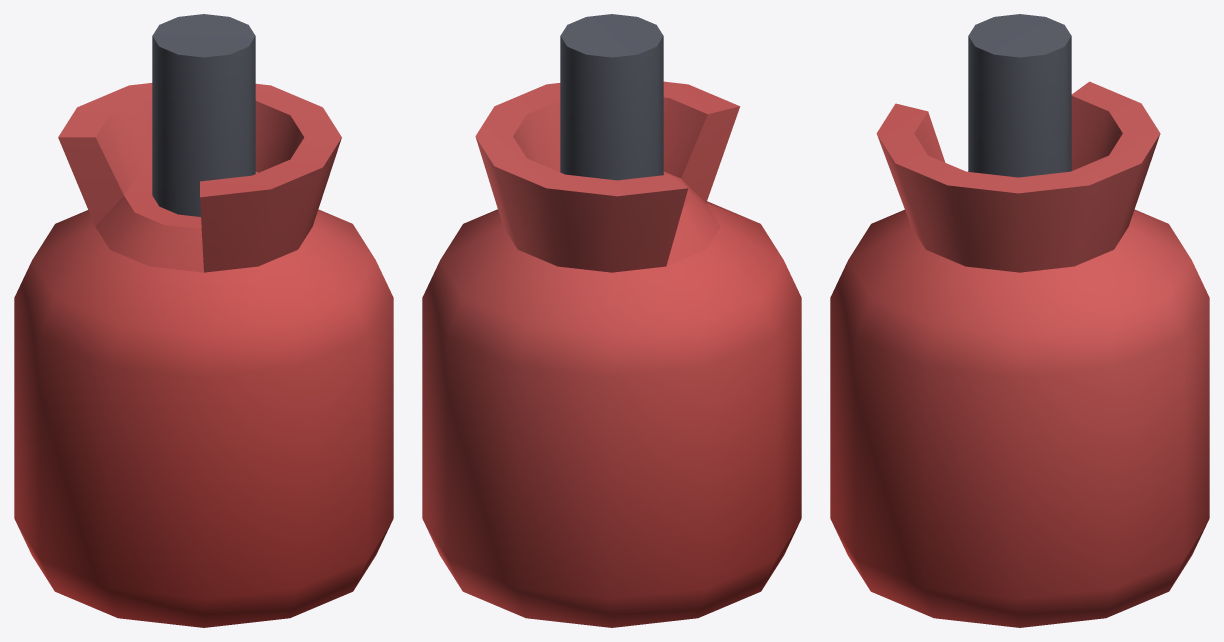
File: Gas.fbx
The picture shows the model from 3 angles, left to right: view 1: azimuth 30°, elevation 25°; view 2: azimuth 150°, elevation 25°; view 3: azimuth 270°, elevation 25°; orthographic projection.
Parts seen in each view (by area): view 1: Gas; view 2: Gas; view 3: Gas.
Part boxes in pixels (x1=…): Gas: x1=14, y1=14, x2=393, y2=627; Gas: x1=422, y1=14, x2=801, y2=627; Gas: x1=830, y1=14, x2=1209, y2=627.
Size of the model in its own units: 55.59 by 86.49 by 55.59.
